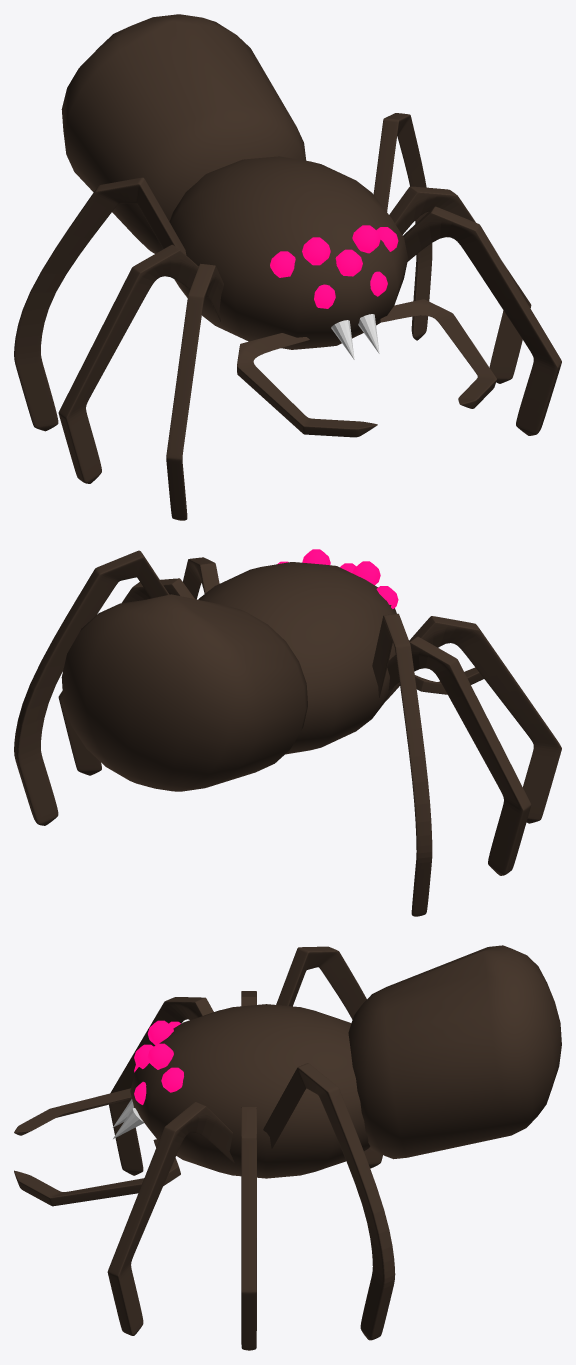
Rendered from SpencerCrandlemire_SpiderV2.fbx.
3 views of the same model, one above another, from view 1: azimuth 30°, elevation 25°; view 2: azimuth 150°, elevation 25°; view 3: azimuth 270°, elevation 25° (orthographic). The views are drawn at different scales.
Visible parts, largest first — view 1: Body, Head, Cube.002, Cube.007, Cube.001, Cube, Cube.005, Cube.003, Cube.006, Eyes, Cube.004; view 2: Body, Head, Cube.005, Cube.001, Cube, Cube.002, Cube.006, Eyes, Cube.007, Cube.003; view 3: Body, Head, Cube.005, Cube.007, Cube.006, Cube.002, Cube, Cube.004, Eyes, Cube.003.
Boxes of the visible parts, x1,y1,x2,y2 form: Body: [61, 14, 306, 253]; Head: [169, 156, 408, 349]; Cube.002: [14, 177, 186, 431]; Cube.007: [403, 206, 561, 435]; Cube.001: [58, 244, 198, 483]; Cube: [166, 263, 223, 520]; Cube.005: [373, 113, 432, 340]; Cube.003: [237, 333, 377, 437]; Cube.006: [389, 186, 531, 383]; Eyes: [270, 225, 398, 308]; Cube.004: [379, 299, 496, 408]; Body: [61, 594, 307, 791]; Head: [198, 562, 396, 754]; Cube.005: [14, 550, 169, 825]; Cube.001: [387, 636, 531, 875]; Cube: [384, 616, 561, 823]; Cube.002: [372, 613, 432, 916]; Cube.006: [58, 578, 194, 775]; Eyes: [277, 549, 398, 608]; Cube.007: [183, 557, 219, 599]; Cube.003: [415, 667, 483, 694]; Body: [348, 945, 561, 1159]; Head: [130, 1004, 370, 1178]; Cube.005: [263, 1063, 395, 1340]; Cube.007: [107, 1102, 234, 1335]; Cube.006: [241, 1107, 256, 1350]; Cube.002: [276, 946, 382, 1168]; Cube: [109, 997, 213, 1175]; Cube.004: [14, 1139, 180, 1206]; Eyes: [134, 1020, 183, 1104]; Cube.003: [14, 1088, 131, 1135].
Bounding box in the file's own units: 373 × 246 × 402.
